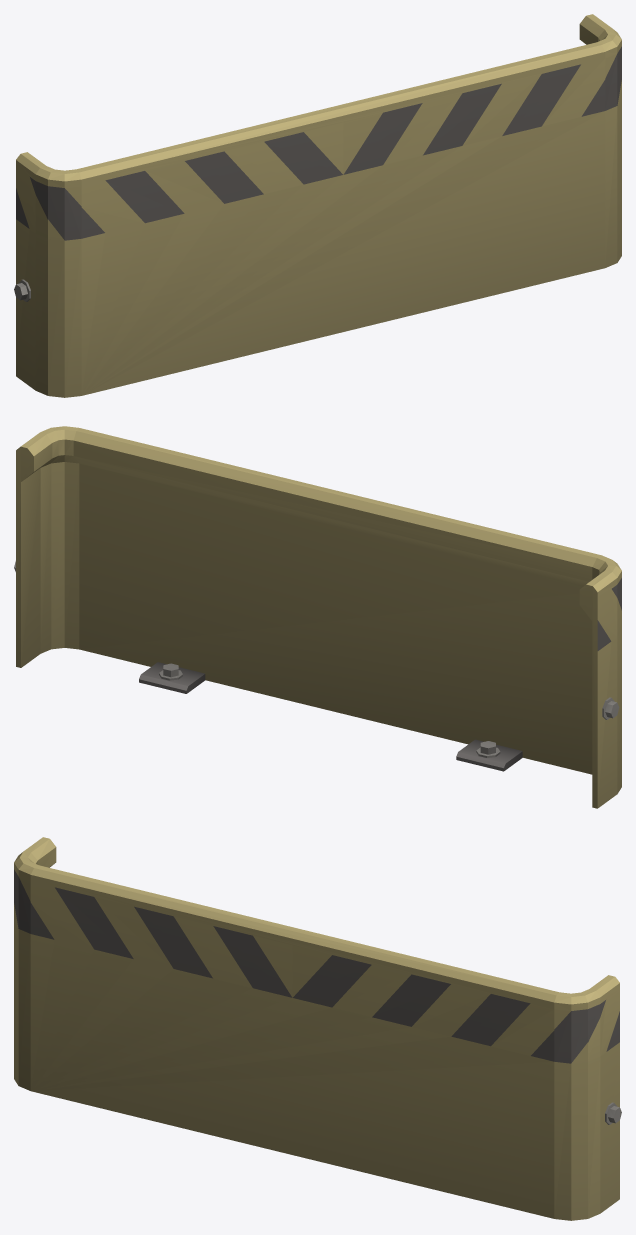
File: guard.glb
3 renders of one model, top to bottom at view 1: azimuth 30°, elevation 25°; view 2: azimuth 150°, elevation 25°; view 3: azimuth 330°, elevation 25°, orthographic.
Parts seen in each view (by area): view 1: guard; view 2: guard; view 3: guard.
Boxes of the visible parts, left/top/right/bottom form: guard: left=14, top=14, right=621, bottom=397; guard: left=14, top=426, right=621, bottom=808; guard: left=14, top=837, right=621, bottom=1220.
Bounding box in the file's own units: 1.13 × 0.4 × 0.12.
